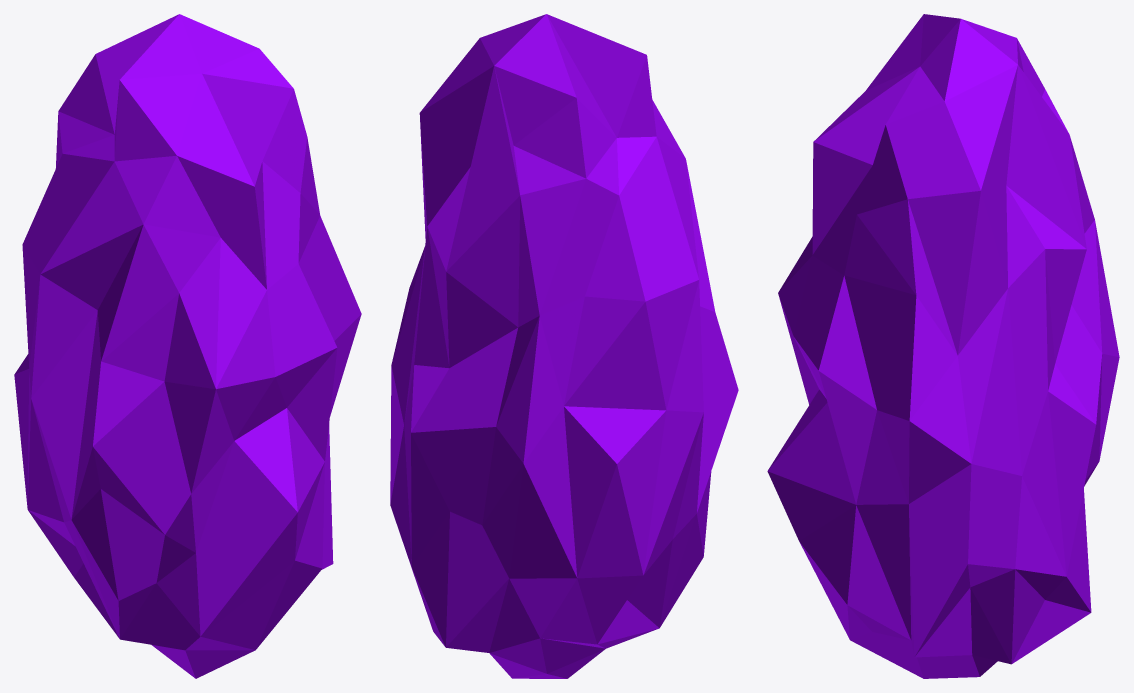
Rendered from Crystal_033.fbx.
3 renders of one model, left to right at view 1: azimuth 30°, elevation 25°; view 2: azimuth 150°, elevation 25°; view 3: azimuth 270°, elevation 25°, orthographic. The views are drawn at different scales.
Parts seen in each view (by area): view 1: Crystal.033; view 2: Crystal.033; view 3: Crystal.033.
Part boxes in pixels (left/top/right/bottom): Crystal.033: left=14, top=14, right=361, bottom=678; Crystal.033: left=390, top=14, right=738, bottom=678; Crystal.033: left=767, top=14, right=1119, bottom=678.
Bounding box in the file's own units: 242 × 491 × 237.
